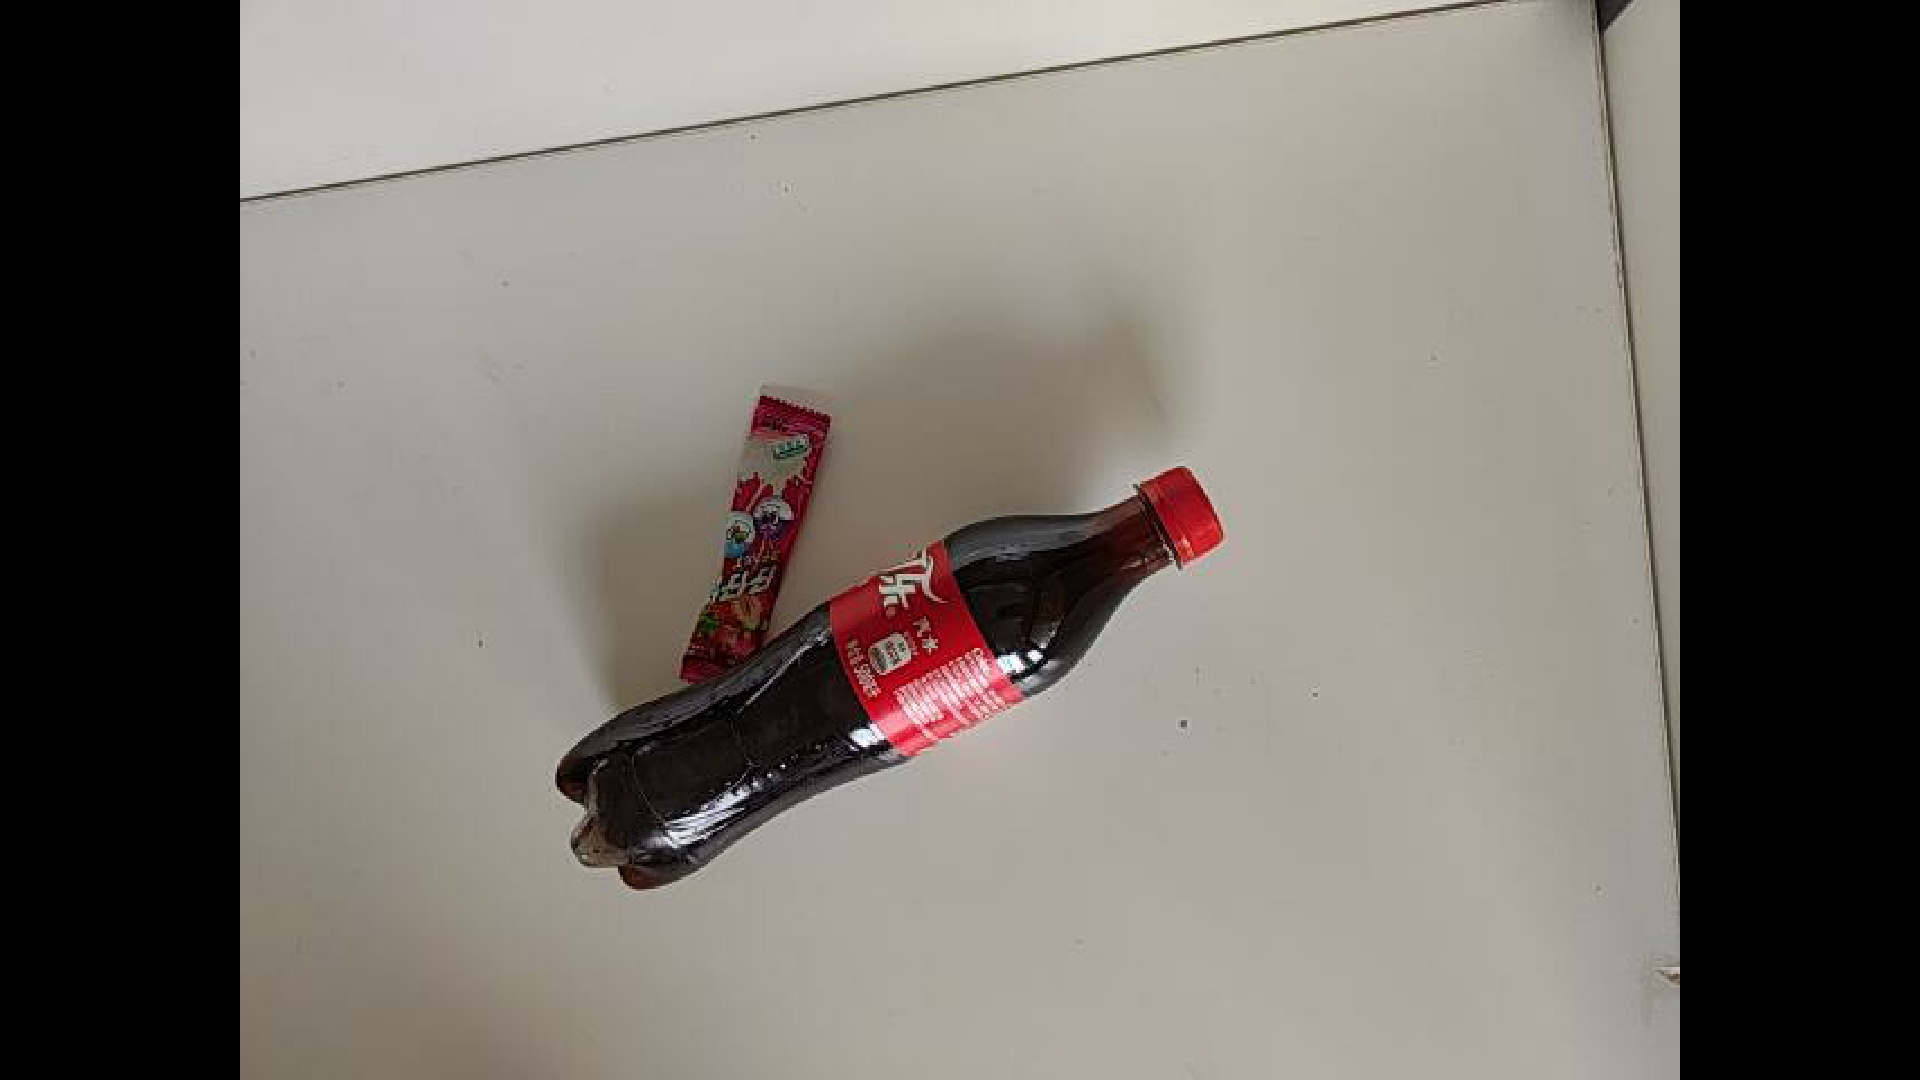cola: (520, 562, 1320, 909)
sugar: (607, 393, 836, 692)
